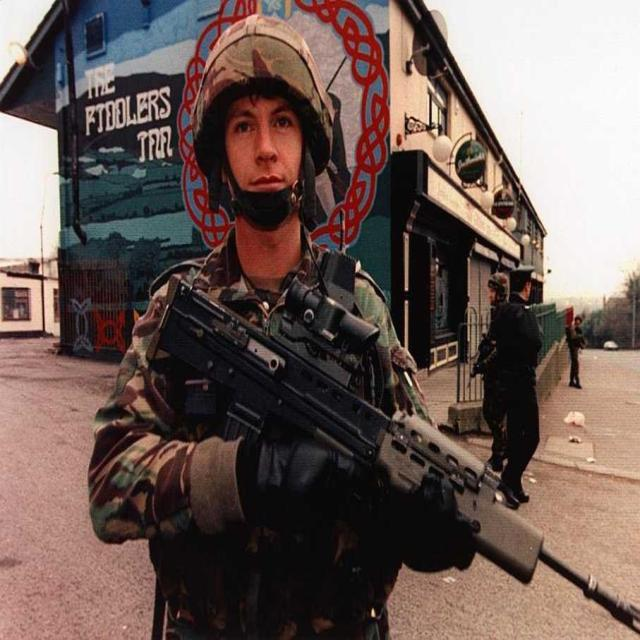RifleTel: (139, 253, 640, 632)
